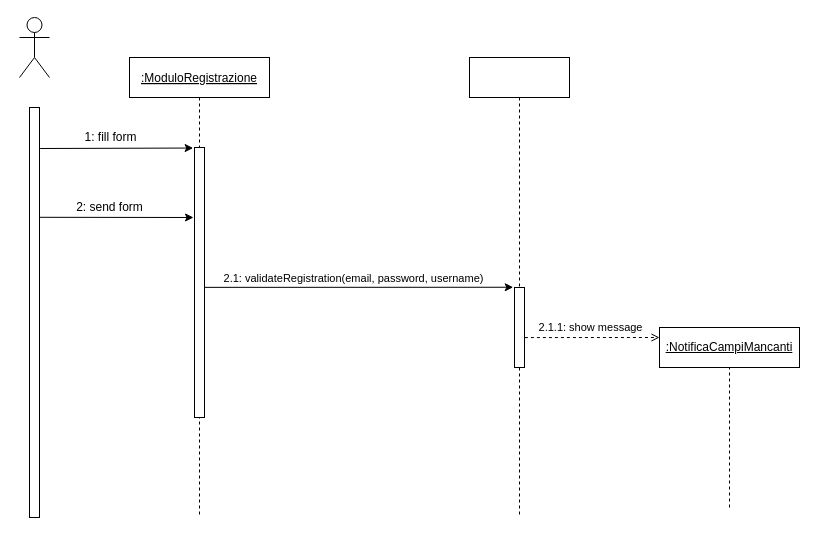
Some shapes in this 817 by 535 pixel diagram are drawn without their labels. Each missing label, with the box of its shape:
:Registrazione: (468, 56, 570, 518)
Utente: (18, 16, 50, 78)
